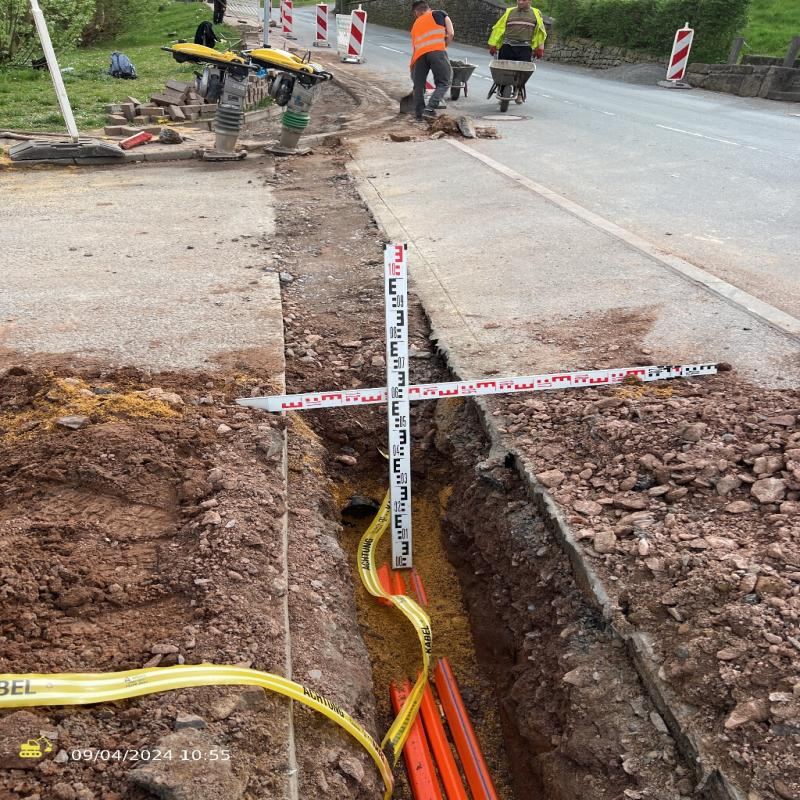Orang-Speednetrohrchen: (435, 660, 497, 800), (404, 685, 466, 800), (380, 563, 407, 594), (390, 680, 413, 715), (411, 570, 428, 605)
